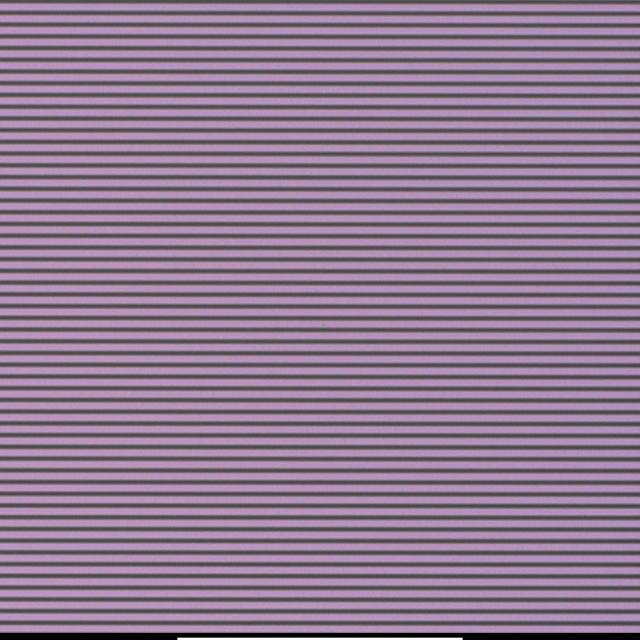nonvisual: (320, 325, 330, 333)
